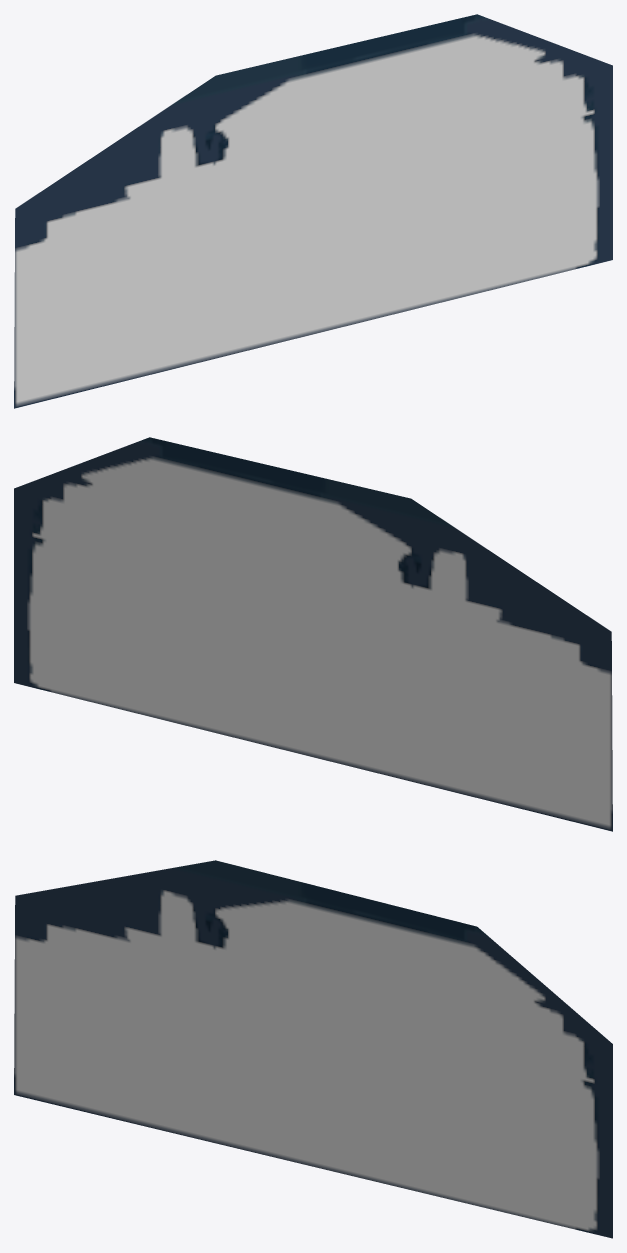
File: HuBian_NightFangzi7_fbx.FBX
3 renders of one model, top to bottom at view 1: azimuth 30°, elevation 25°; view 2: azimuth 150°, elevation 25°; view 3: azimuth 330°, elevation 25°, orthographic.
Visible parts, largest first — view 1: Object057; view 2: Object057; view 3: Object057.
Part boxes in pixels (x1,y1,x2,y2): Object057: (14,14,612,408); Object057: (14,437,612,831); Object057: (14,860,612,1238).
Bounding box in the file's own units: 4.63 × 2.09 × 4.68e-07.
Materials: 1 (1 with a texture image).
